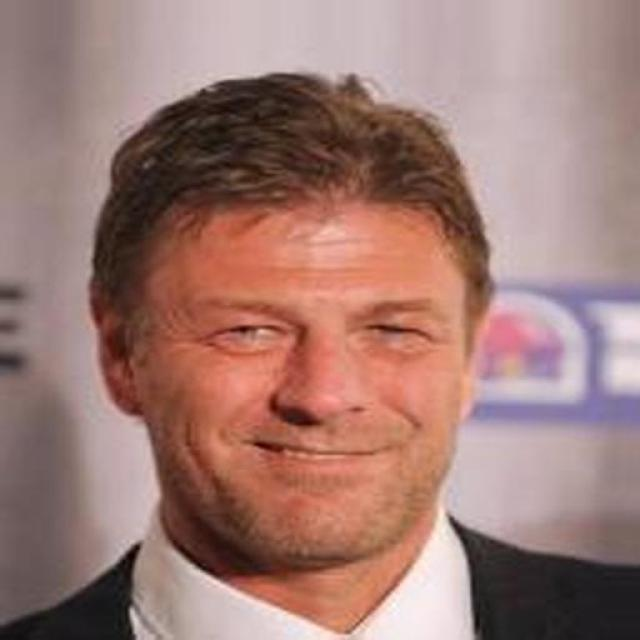bareface: (172, 210, 486, 538)
